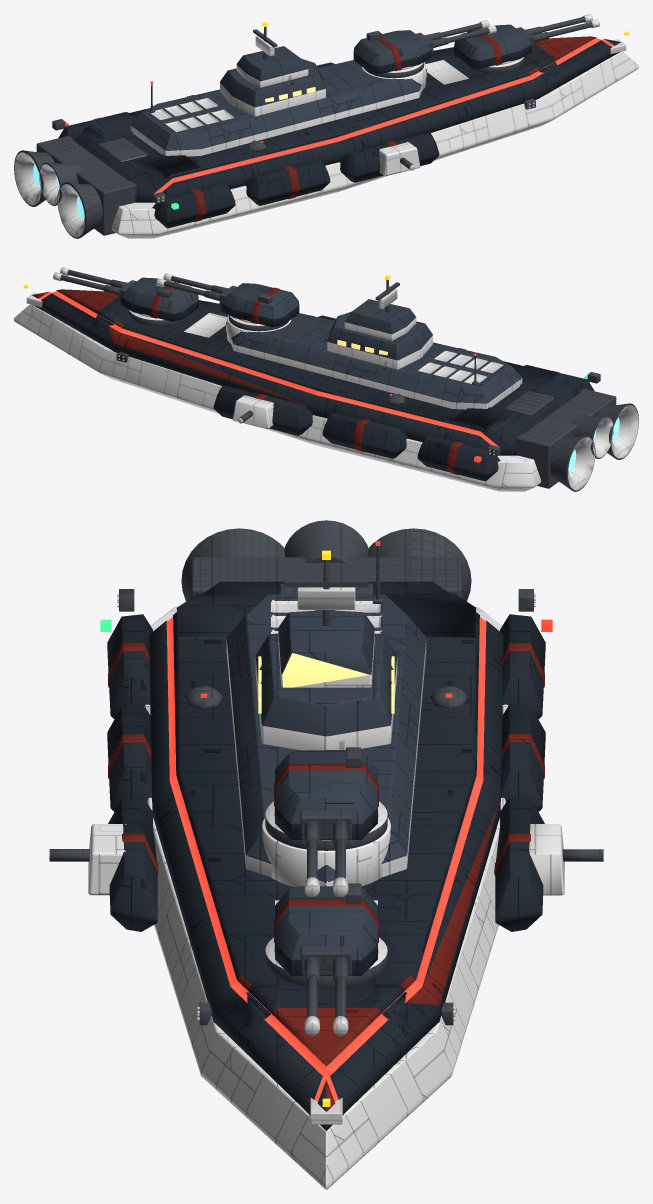
Rendered from bastion_production_v1_lod1.glb.
The picture shows the model from 3 angles, top to bottom: view 1: azimuth 30°, elevation 25°; view 2: azimuth 150°, elevation 25°; view 3: azimuth 270°, elevation 25°; orthographic projection. The views are drawn at different scales.
Parts seen in each view (by area): view 1: LOD0_Hull, LOD0_Hull_upper, LOD0_Armor, LOD0_Mechanical, LOD0_MechanicalDark, LOD0_Lights_Cyan_warning, LOD0_Livery; view 2: LOD0_Hull, LOD0_Hull_upper, LOD0_Armor, LOD0_Mechanical, LOD0_MechanicalDark, LOD0_Livery, LOD0_Lights_Cyan_warning, LOD0_HOOK_ARMOR_PORT_Hull, LOD0_HOOK_SECONDARY_CASEMATE_Armor; view 3: LOD0_Hull, LOD0_Hull_upper, LOD0_Armor, LOD0_Mechanical, LOD0_Livery, LOD0_Lights_Cyan_warning, LOD0_MechanicalDark, LOD0_HOOK_ARMOR_PORT_Hull, LOD0_HOOK_SECONDARY_CASEMATE_Armor, LOD0_Lights_Warm, LOD0_HOOK_SENSOR_MAST_MechanicalDark, LOD0_HOOK_SENSOR_MAST_Mechanical.
Part boxes in pixels (bbox=[...]): LOD0_Hull: bbox=[58, 39, 620, 228]; LOD0_Hull_upper: bbox=[131, 24, 531, 150]; LOD0_Armor: bbox=[112, 51, 638, 238]; LOD0_Mechanical: bbox=[14, 17, 592, 238]; LOD0_MechanicalDark: bbox=[14, 14, 626, 237]; LOD0_Lights_Cyan_warning: bbox=[154, 37, 614, 193]; LOD0_Livery: bbox=[93, 34, 596, 221]; LOD0_Hull: bbox=[33, 293, 594, 481]; LOD0_Hull_upper: bbox=[121, 277, 522, 403]; LOD0_Armor: bbox=[14, 304, 540, 491]; LOD0_Mechanical: bbox=[60, 270, 638, 491]; LOD0_MechanicalDark: bbox=[26, 267, 638, 490]; LOD0_Livery: bbox=[32, 282, 559, 474]; LOD0_Lights_Cyan_warning: bbox=[38, 290, 498, 446]; LOD0_HOOK_ARMOR_PORT_Hull: bbox=[322, 411, 407, 458]; LOD0_HOOK_SECONDARY_CASEMATE_Armor: bbox=[232, 395, 273, 429]; LOD0_Hull: bbox=[107, 581, 545, 1131]; LOD0_Hull_upper: bbox=[226, 594, 426, 960]; LOD0_Armor: bbox=[88, 606, 508, 1189]; LOD0_Mechanical: bbox=[49, 520, 533, 1025]; LOD0_Livery: bbox=[108, 643, 544, 1111]; LOD0_Lights_Cyan_warning: bbox=[166, 617, 486, 1101]; LOD0_MechanicalDark: bbox=[49, 593, 535, 1124]; LOD0_HOOK_ARMOR_PORT_Hull: bbox=[501, 704, 545, 811]; LOD0_HOOK_SECONDARY_CASEMATE_Armor: bbox=[529, 824, 564, 895]; LOD0_Lights_Warm: bbox=[258, 653, 394, 713]; LOD0_HOOK_SENSOR_MAST_MechanicalDark: bbox=[297, 587, 355, 609]; LOD0_HOOK_SENSOR_MAST_Mechanical: bbox=[284, 560, 368, 625].
Size of what is drawn, in the model's own units: 21.1 by 5.08 by 8.6.
12 materials, 6 textured.
